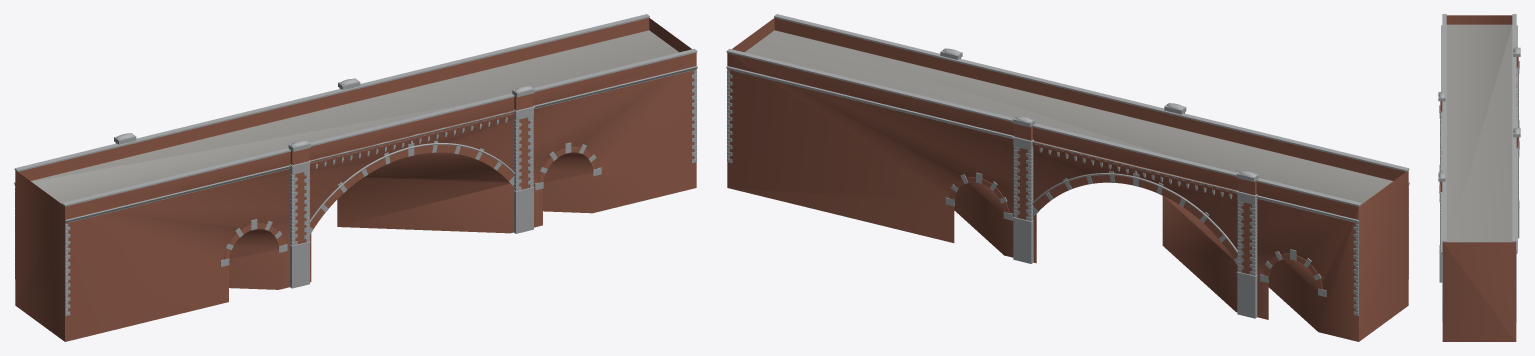
File: stjob.glb
The picture shows the model from 3 angles, left to right: view 1: azimuth 30°, elevation 25°; view 2: azimuth 150°, elevation 25°; view 3: azimuth 270°, elevation 25°; orthographic projection. The views are drawn at different scales.
Visible parts, largest first — view 1: stjob; view 2: stjob; view 3: stjob.
Part boxes in pixels (x1,y1,x2,y2): stjob: [14, 14, 697, 341]; stjob: [726, 14, 1409, 341]; stjob: [1438, 14, 1520, 341].
Bounding box in the file's own units: 63.75 × 13.83 × 9.74.
